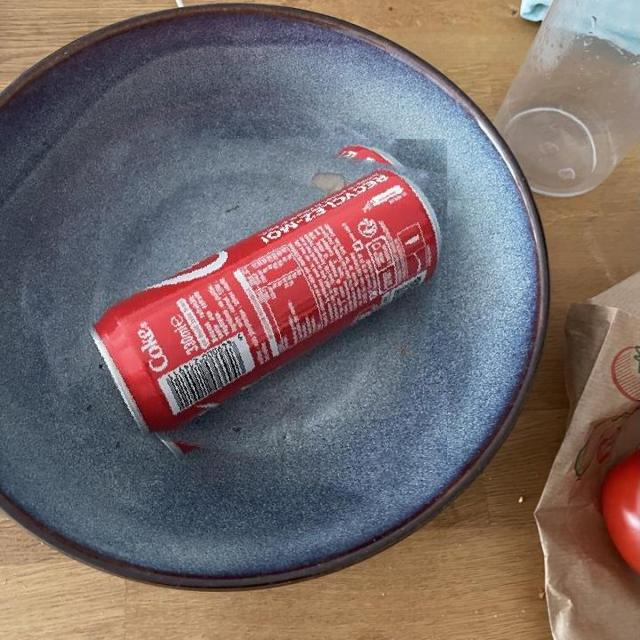recyclable: (79, 139, 447, 484)
